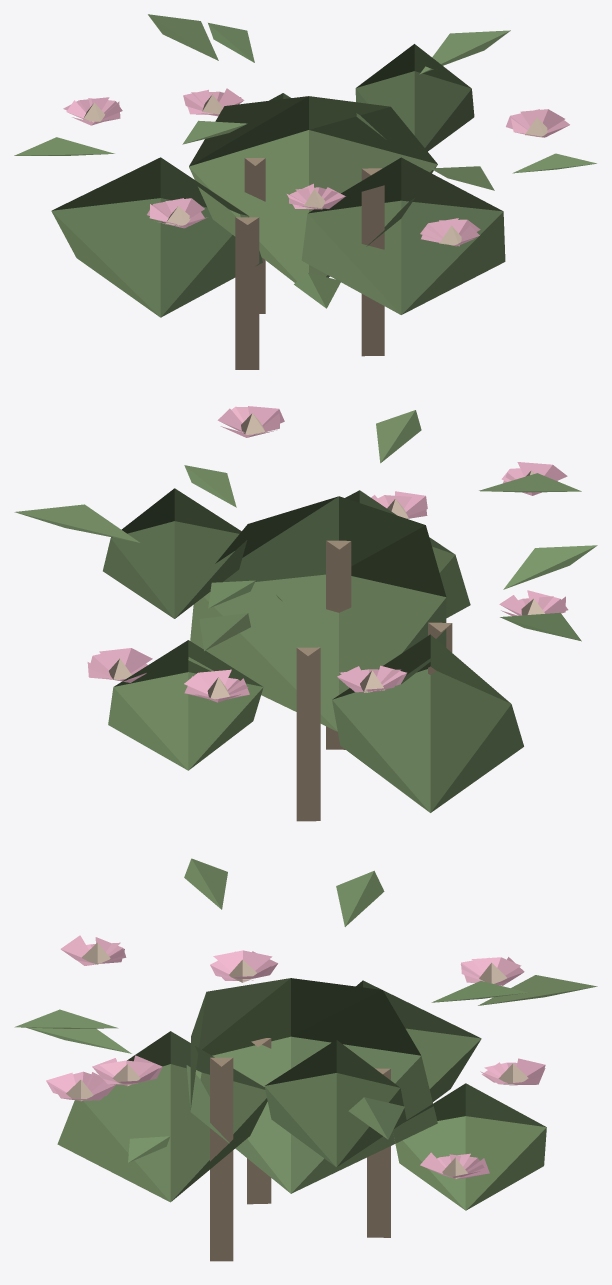
Rendered from guan.dujuan@flowering__summer.glb.
The picture shows the model from 3 angles, top to bottom: view 1: azimuth 30°, elevation 25°; view 2: azimuth 150°, elevation 25°; view 3: azimuth 270°, elevation 25°; orthographic projection. The views are drawn at different scales.
Parts seen in each view (by area): view 1: guan.dujuan@flowering__summer; view 2: guan.dujuan@flowering__summer; view 3: guan.dujuan@flowering__summer.
Boxes of the visible parts, x1=… form: guan.dujuan@flowering__summer: x1=14, y1=14, x2=596, y2=369; guan.dujuan@flowering__summer: x1=14, y1=406, x2=597, y2=821; guan.dujuan@flowering__summer: x1=14, y1=858, x2=597, y2=1261.
Size of the model in its own units: 2.66 by 1.4 by 2.46.
